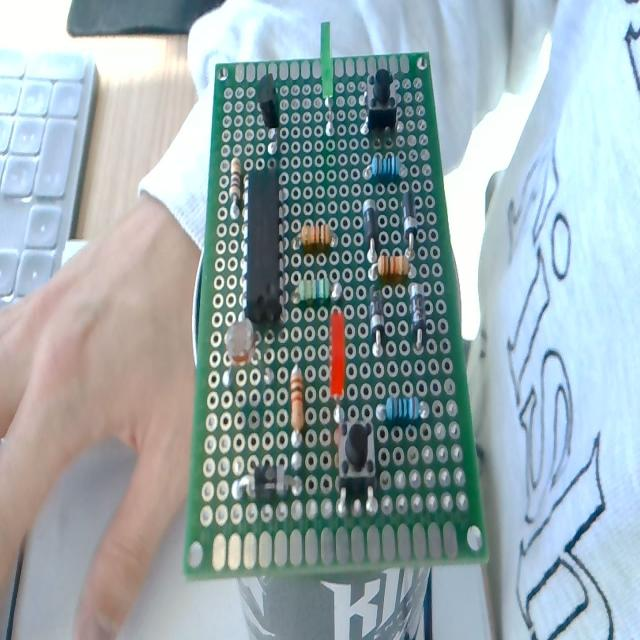IC: (240, 163, 288, 325)
cds: (220, 314, 270, 402)
diode: (229, 460, 314, 514), (356, 187, 387, 256), (364, 282, 389, 358), (408, 281, 432, 357), (399, 187, 420, 253)
led: (321, 308, 355, 424), (313, 21, 341, 140)
resistor: (374, 389, 436, 431), (286, 358, 310, 454), (355, 151, 415, 184), (289, 273, 344, 307), (288, 221, 341, 256), (227, 146, 246, 230), (368, 254, 418, 284)
switch: (332, 419, 384, 518), (355, 61, 411, 140)
transistor: (254, 68, 286, 158)
